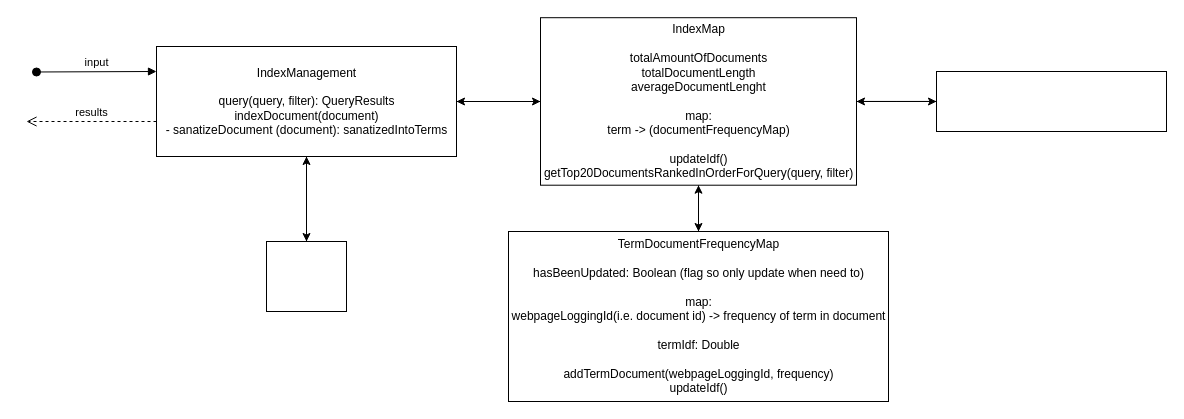
The diagram is 1184 pixels wide and 419 high, and some of its shapes have lost their labels. Each missing label, with the centre of its shape:
"DocumentLengthMap webpageLoggingId -> documentLength" goes at (1051,101).
"Index_DAO loadIndex() saveIndex()" goes at (306,276).
